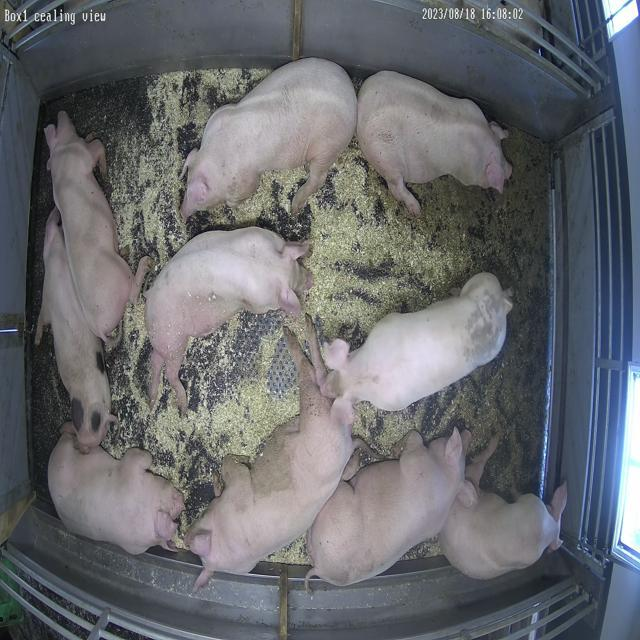Dirt: (390, 128, 551, 500)
Pig: (185, 318, 353, 590), (145, 227, 312, 412), (324, 274, 513, 424), (181, 58, 357, 218), (308, 430, 476, 587), (44, 111, 144, 342), (359, 71, 513, 214), (35, 209, 115, 454), (440, 438, 569, 580), (48, 425, 184, 556)
